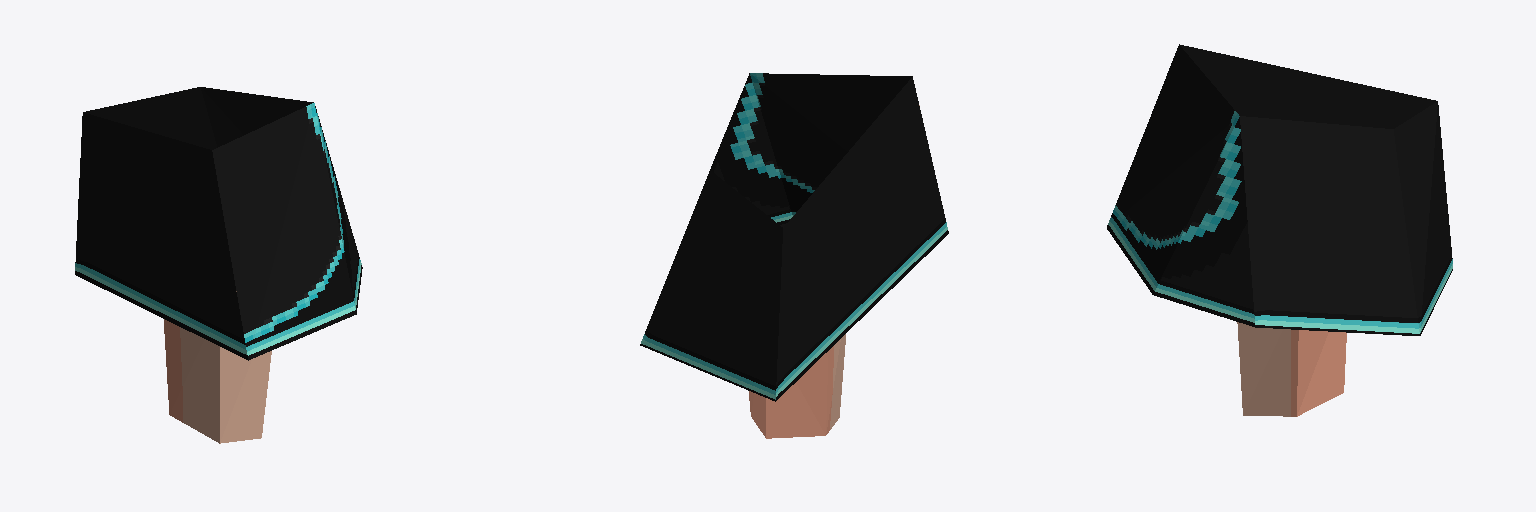
The picture shows the model from 3 angles: view 1: azimuth 30°, elevation 25°; view 2: azimuth 150°, elevation 25°; view 3: azimuth 270°, elevation 25°; orthographic projection.
Parts seen in each view (by area): view 1: 13_LEG_LEFT_TOP; view 2: 13_LEG_LEFT_TOP; view 3: 13_LEG_LEFT_TOP.
Part boxes in pixels (x1,y1,x2,y2): 13_LEG_LEFT_TOP: (75, 87, 362, 443); 13_LEG_LEFT_TOP: (640, 73, 948, 438); 13_LEG_LEFT_TOP: (1107, 44, 1452, 416).
Size of the model in its own units: 0.2471 by 0.4146 by 0.3935.
1 materials, 1 textured.